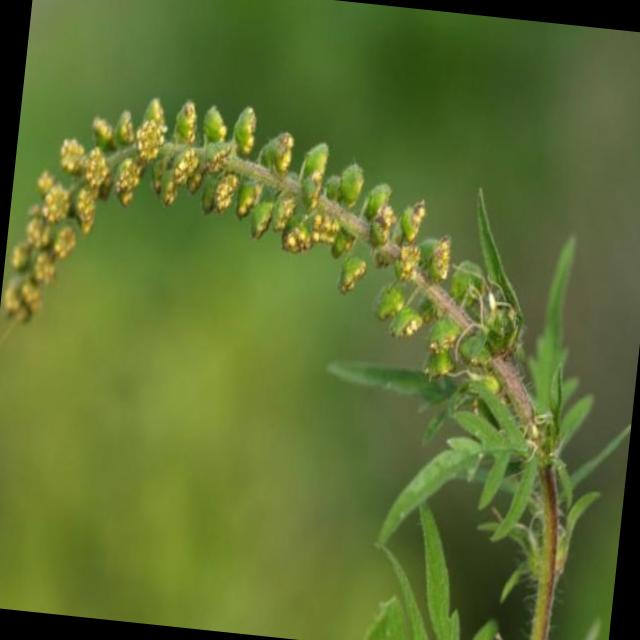ambrosia: (0, 44, 601, 538)
